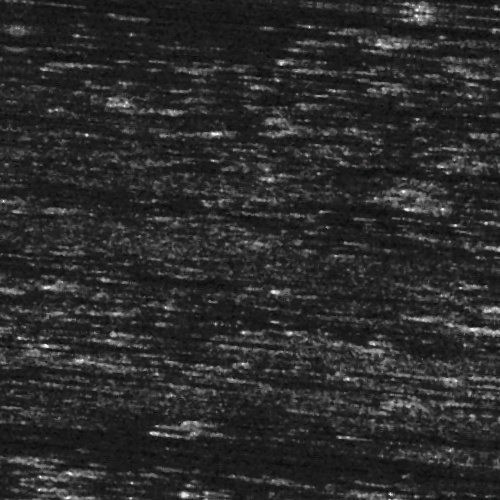object: (118, 423, 263, 432), (207, 127, 270, 138), (197, 373, 270, 382), (0, 4, 25, 21), (0, 306, 9, 317)
shadow: (0, 444, 394, 467), (190, 423, 429, 432), (234, 373, 472, 382), (0, 281, 189, 290), (0, 306, 116, 317), (0, 4, 64, 21), (239, 127, 327, 138), (0, 387, 57, 398)
